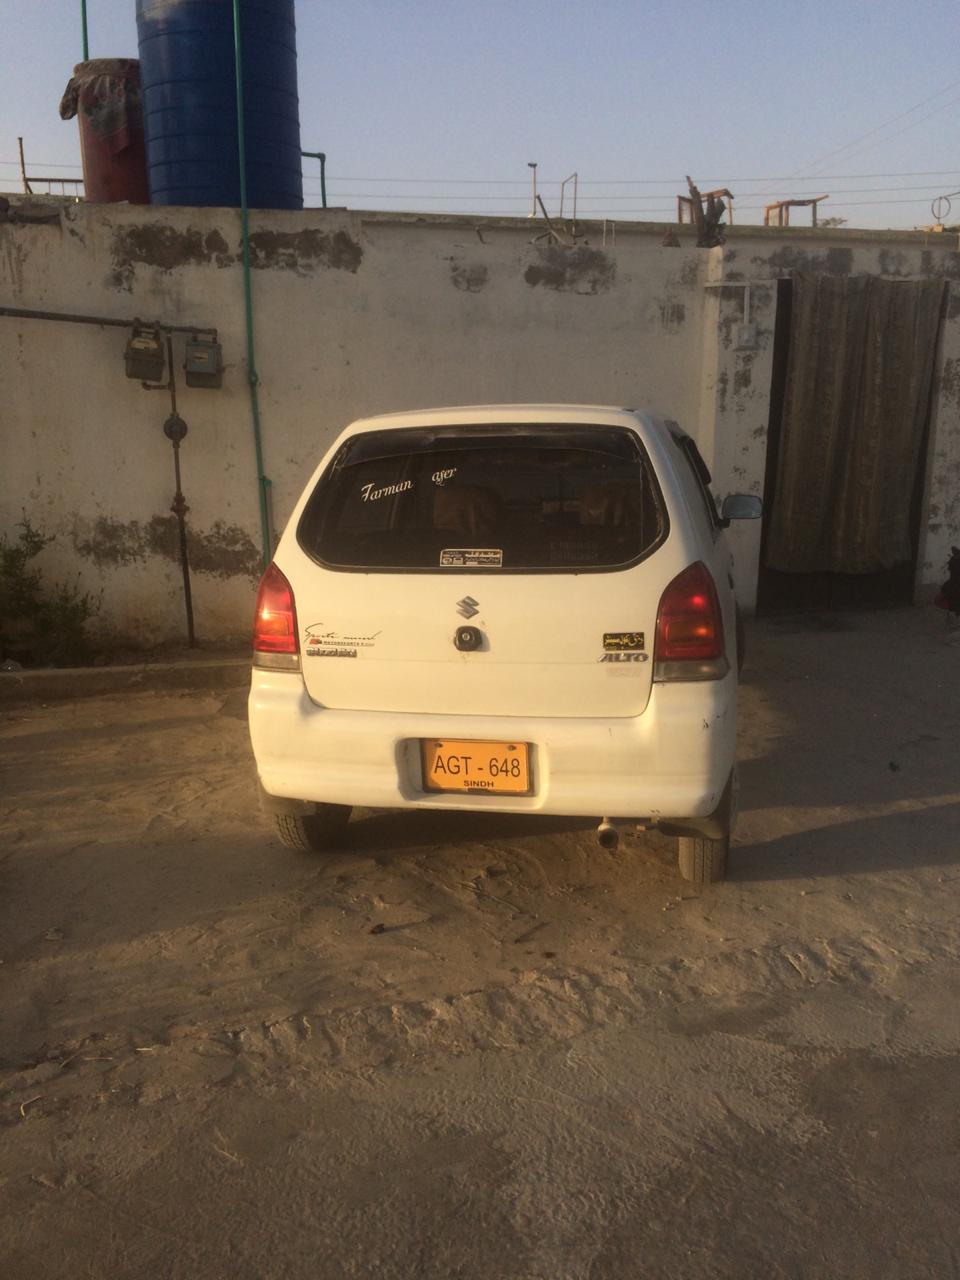license plate: (420, 740, 534, 798)
